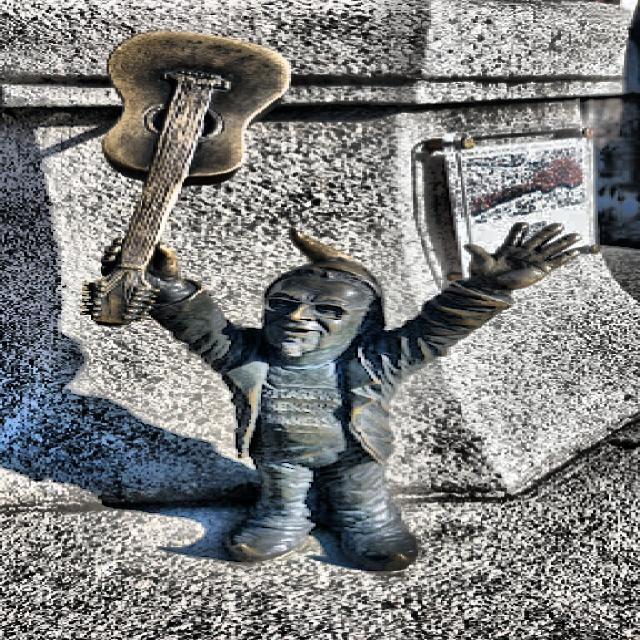Leszko_z_Wroclawia: (84, 30, 573, 575)
